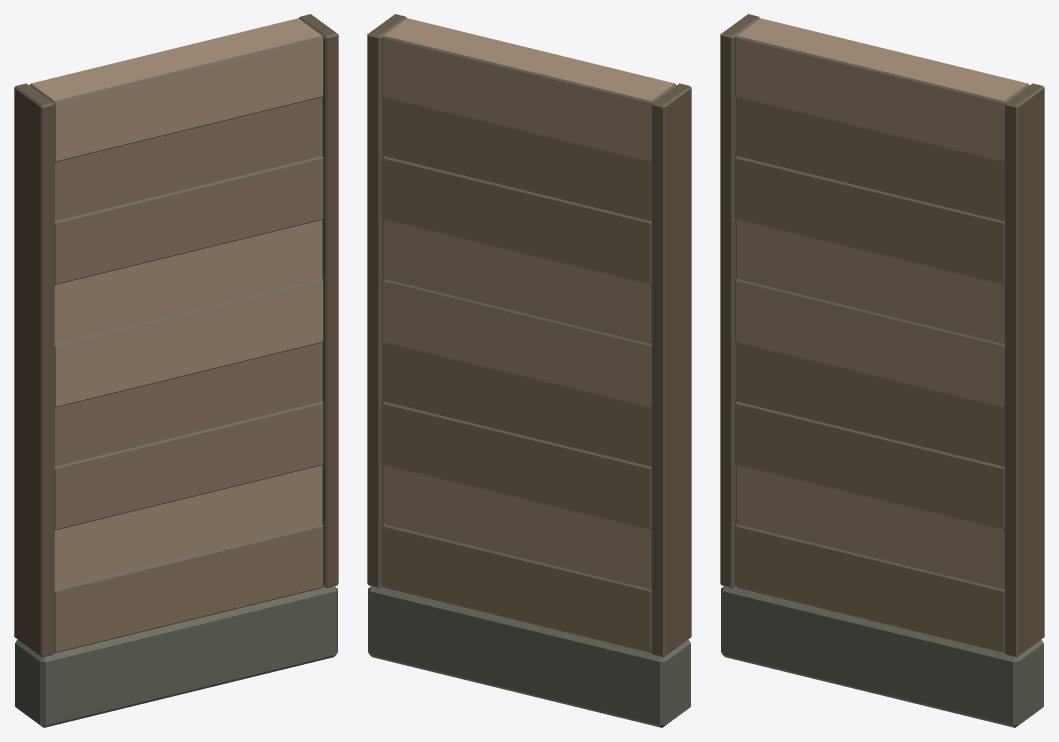
The model's file is wall_boards.glb.
3 renders of one model, left to right at view 1: azimuth 30°, elevation 25°; view 2: azimuth 150°, elevation 25°; view 3: azimuth 330°, elevation 25°, orthographic.
Visible parts, largest first — view 1: Wall_Boards; view 2: Wall_Boards; view 3: Wall_Boards.
Part boxes in pixels (x1,y1,x2,y2): Wall_Boards: [14, 14, 338, 727]; Wall_Boards: [367, 14, 691, 727]; Wall_Boards: [720, 14, 1044, 727].
Bounding box in the file's own units: 1.52 × 3.05 × 0.26.
